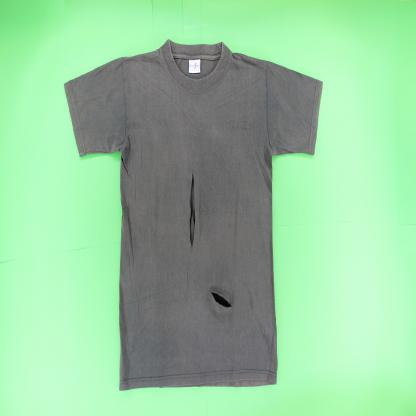hole: (187, 170, 197, 249), (209, 289, 234, 310)
